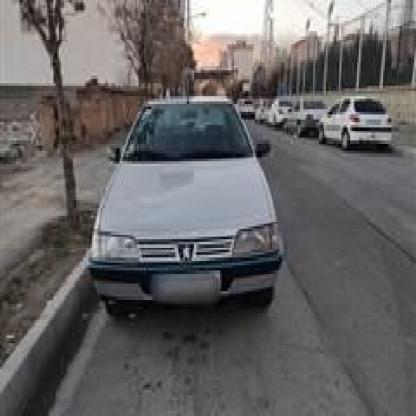Car: (81, 89, 286, 331), (326, 91, 393, 164), (288, 99, 326, 135), (265, 99, 290, 125), (236, 91, 253, 122), (257, 96, 265, 125)
